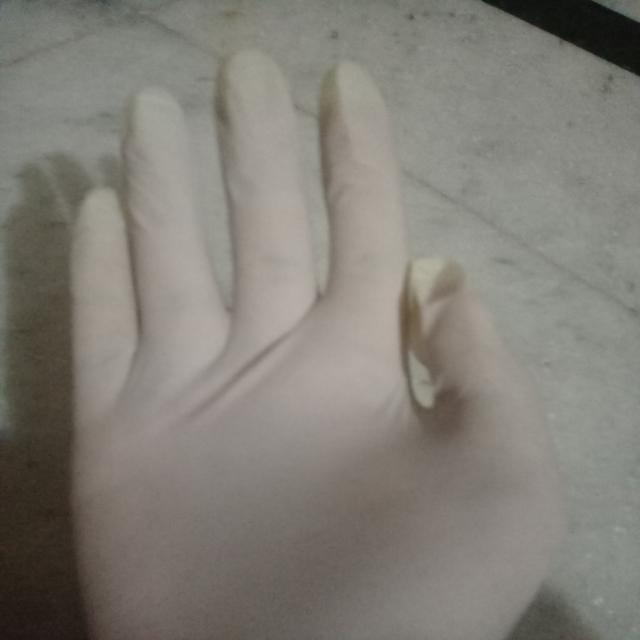glove_hand: (62, 32, 580, 636)
